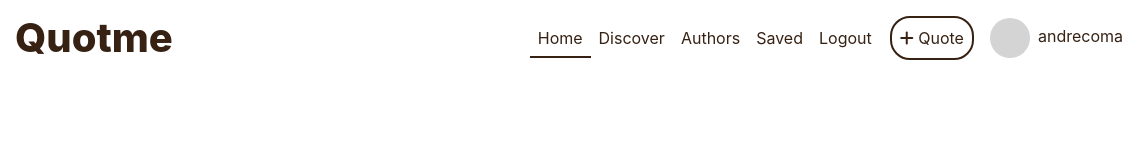
Test case: renders Login in and Sign up again on logout
Click the link "Logout": (845, 38) left=819, top=28, right=872, bottom=48
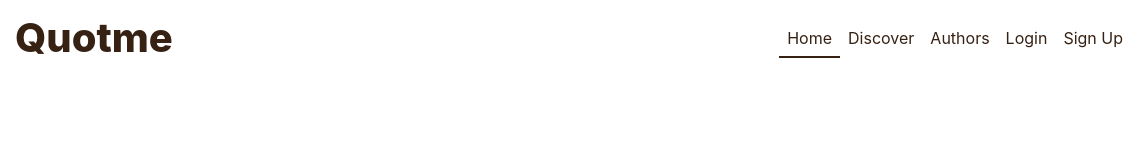
Result: the link "Login" is shown at left=1006, top=28, right=1047, bottom=48
Result: the link "Sign Up" is shown at left=1063, top=28, right=1123, bottom=48
